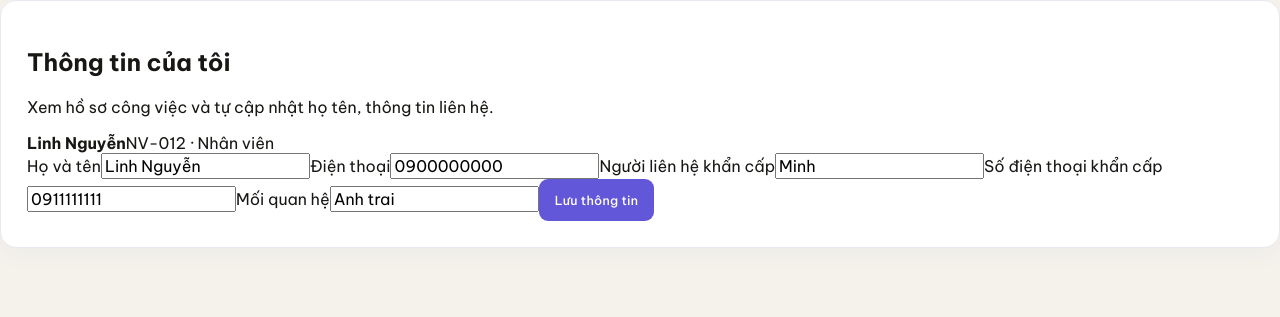
Scenario: lets an employee edit their own full name and contact details
The image size is (1280, 317).
Replace the text in the field labelled "Họ và tên" with "Linh Trần" at [205, 166], box [101,153,310,179]
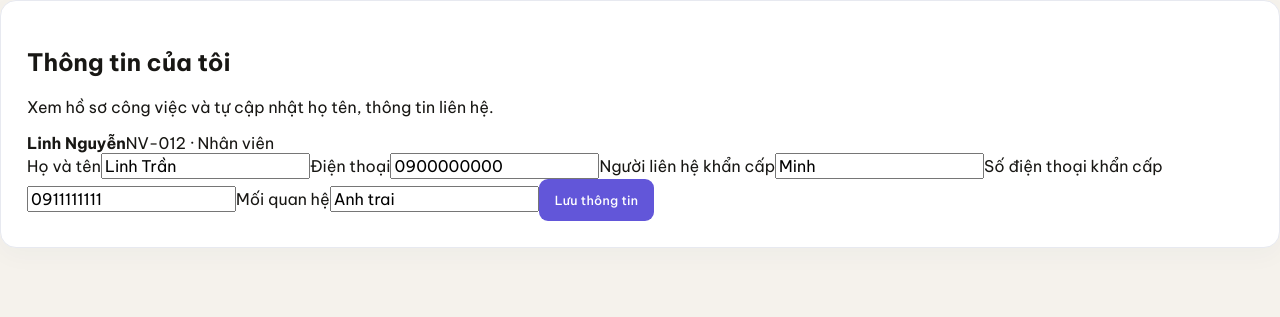
Replace the text in the field labelled "Điện thoại" with "0988888888" at [495, 166], box [390,153,600,179]
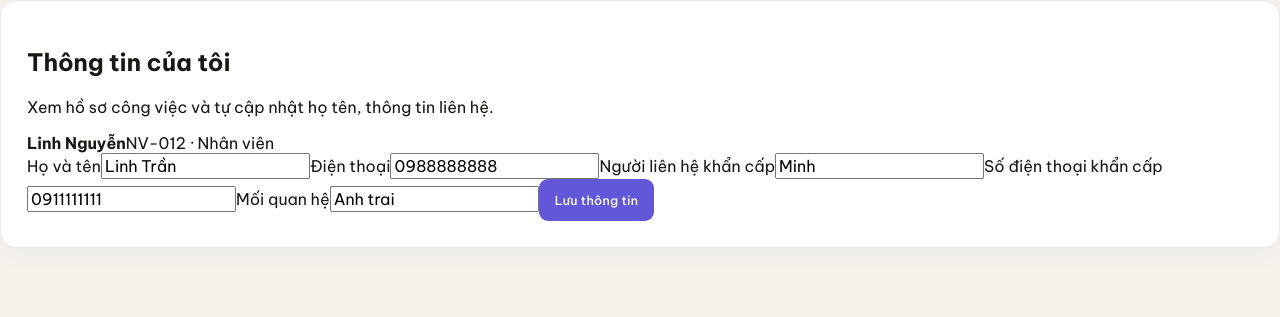
Click the button "Lưu thông tin" at [596, 200], box [539,179,654,221]
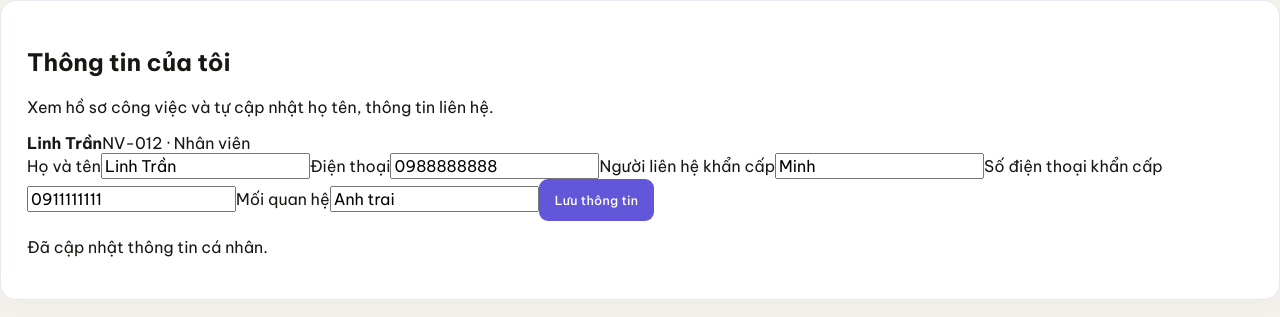
Now the message reads "Đã cập nhật thông tin cá nhân.", box [27,237,268,257]
